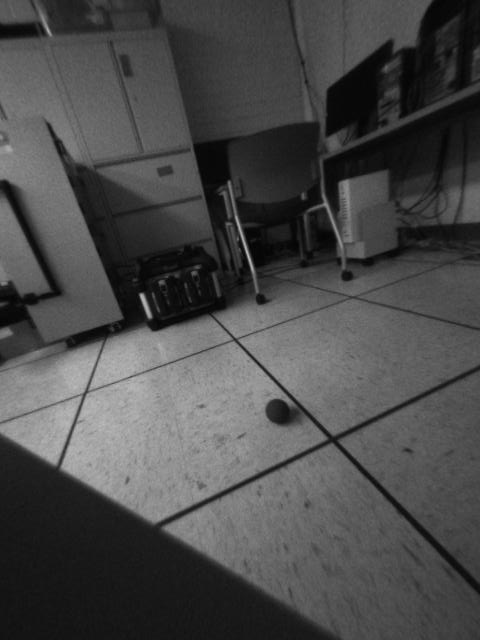dogtoy: (259, 388, 300, 430)
